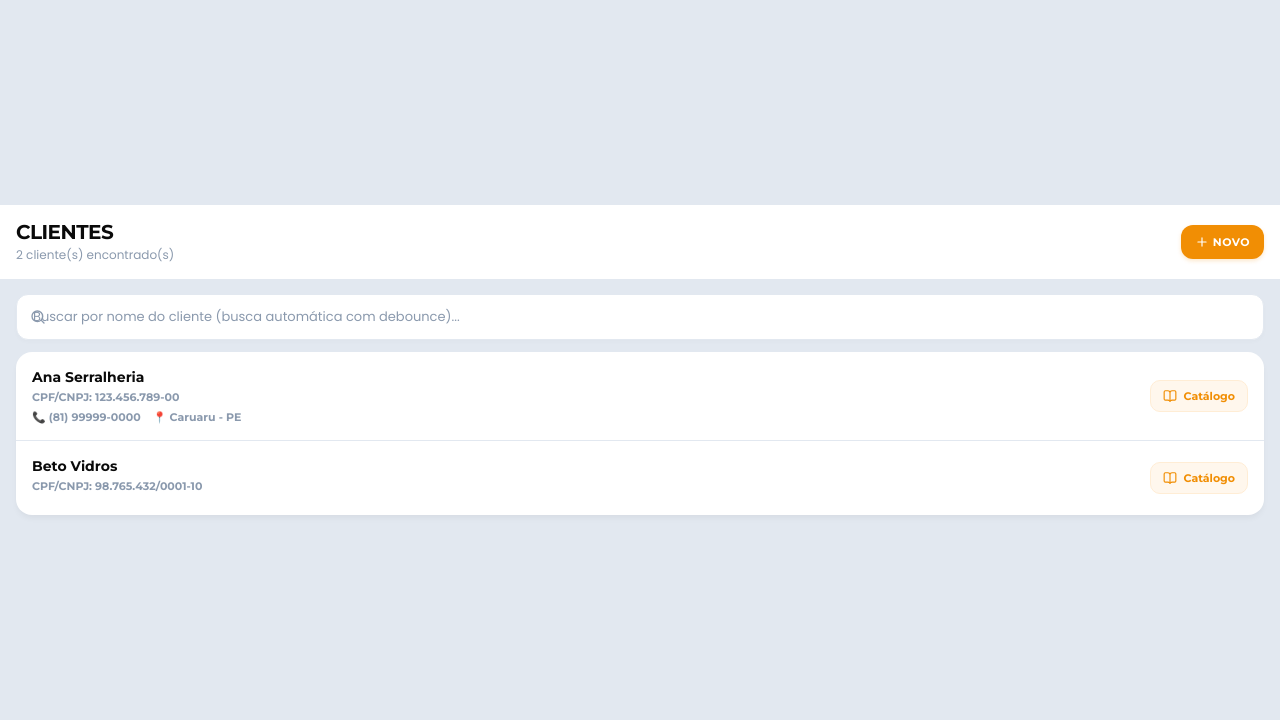
Test: Clientes – detalhes, edição e exclusão › exibe os detalhes completos do cliente
Click the text "Ana Serralheria" at (88, 377), box x1=32 y1=368 x2=144 y2=386
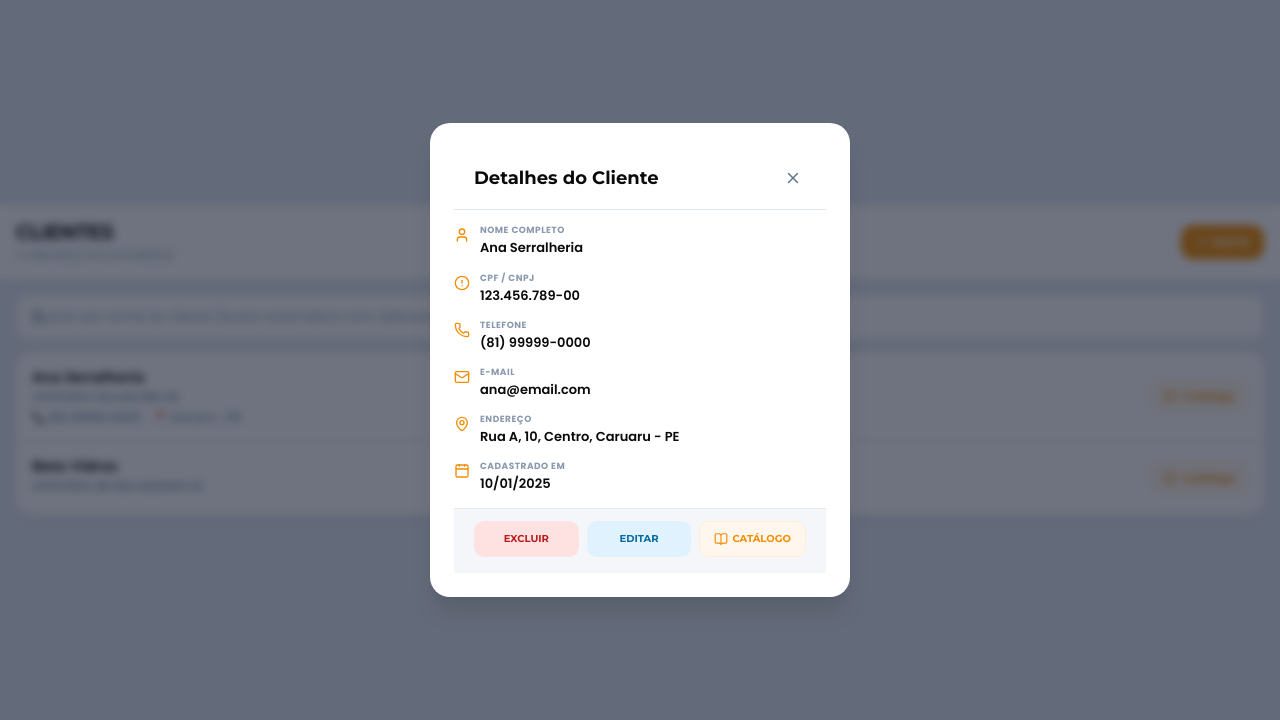
Expected: the text "ana@email.com" is shown, x1=480 y1=381 x2=591 y2=399
Expected: the text "Rua A, 10, Centro, Caruaru - PE" is shown, x1=480 y1=428 x2=680 y2=446
Expected: the text "10/01/2025" is shown, x1=480 y1=474 x2=550 y2=493
